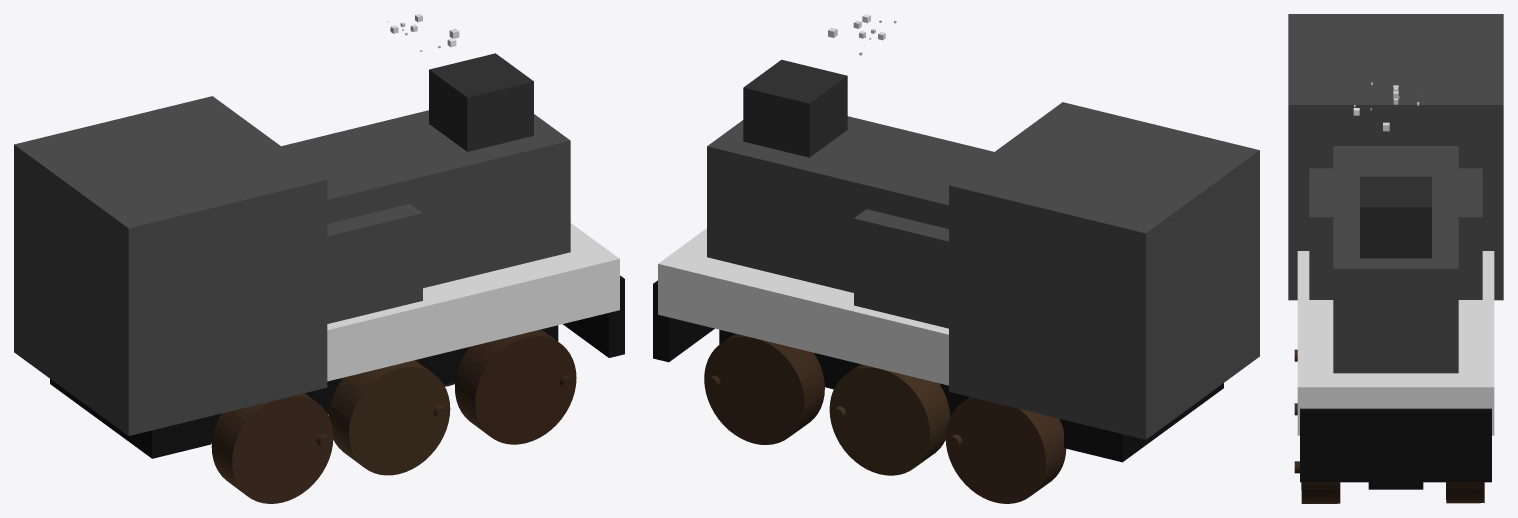
File: train.fbx
3 views of the same model, side by side, from view 1: azimuth 30°, elevation 25°; view 2: azimuth 150°, elevation 25°; view 3: azimuth 270°, elevation 25° (orthographic). The views are drawn at different scales.
Visible parts, largest first — view 1: Cube.001, Cube.002, 零件2, 零件2.002, 零件2.001; view 2: Cube.001, Cube.002, 零件2, 零件2.002, 零件2.001; view 3: Cube.001, Cube.002, 零件2.
Boxes of the visible parts, <box> form: Cube.001: <box>14,53,624,458</box>; Cube.002: <box>327,223,619,381</box>; 零件2: <box>444,329,576,444</box>; 零件2.002: <box>327,360,450,475</box>; 零件2.001: <box>211,393,333,503</box>; Cube.001: <box>653,59,1259,462</box>; Cube.002: <box>658,228,948,385</box>; 零件2: <box>704,333,824,444</box>; 零件2.002: <box>829,364,950,475</box>; 零件2.001: <box>945,397,1066,503</box>; Cube.001: <box>1288,14,1503,489</box>; Cube.002: <box>1297,251,1494,435</box>; 零件2: <box>1294,461,1484,503</box>.
Size of the model in its own units: 871 by 670 by 344.
